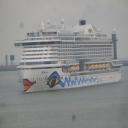cruises: (14, 18, 125, 95)
